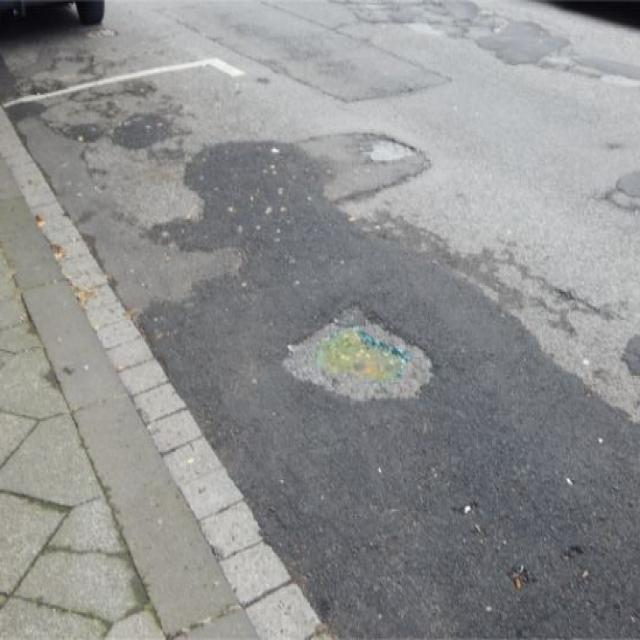Pothole: (273, 298, 439, 398)
